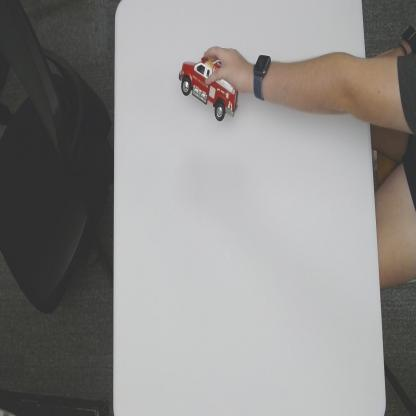Arm: (273, 43, 416, 134)
Firetruck: (178, 52, 240, 122)
Hand: (204, 46, 251, 95)
